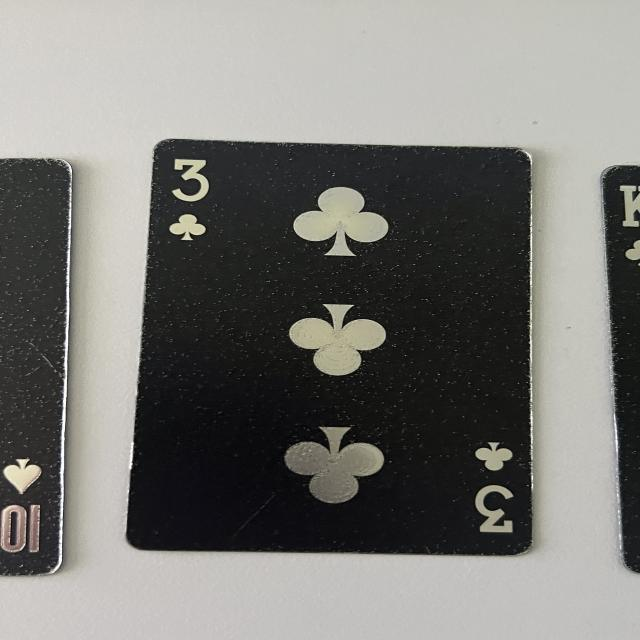10S: (0, 458, 49, 555)
3C: (455, 438, 526, 540), (159, 150, 219, 244)
KC: (616, 176, 640, 276)
